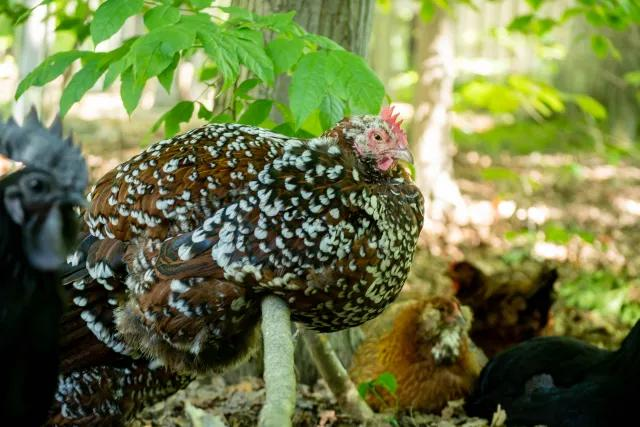AbNormal: (62, 100, 454, 366)
